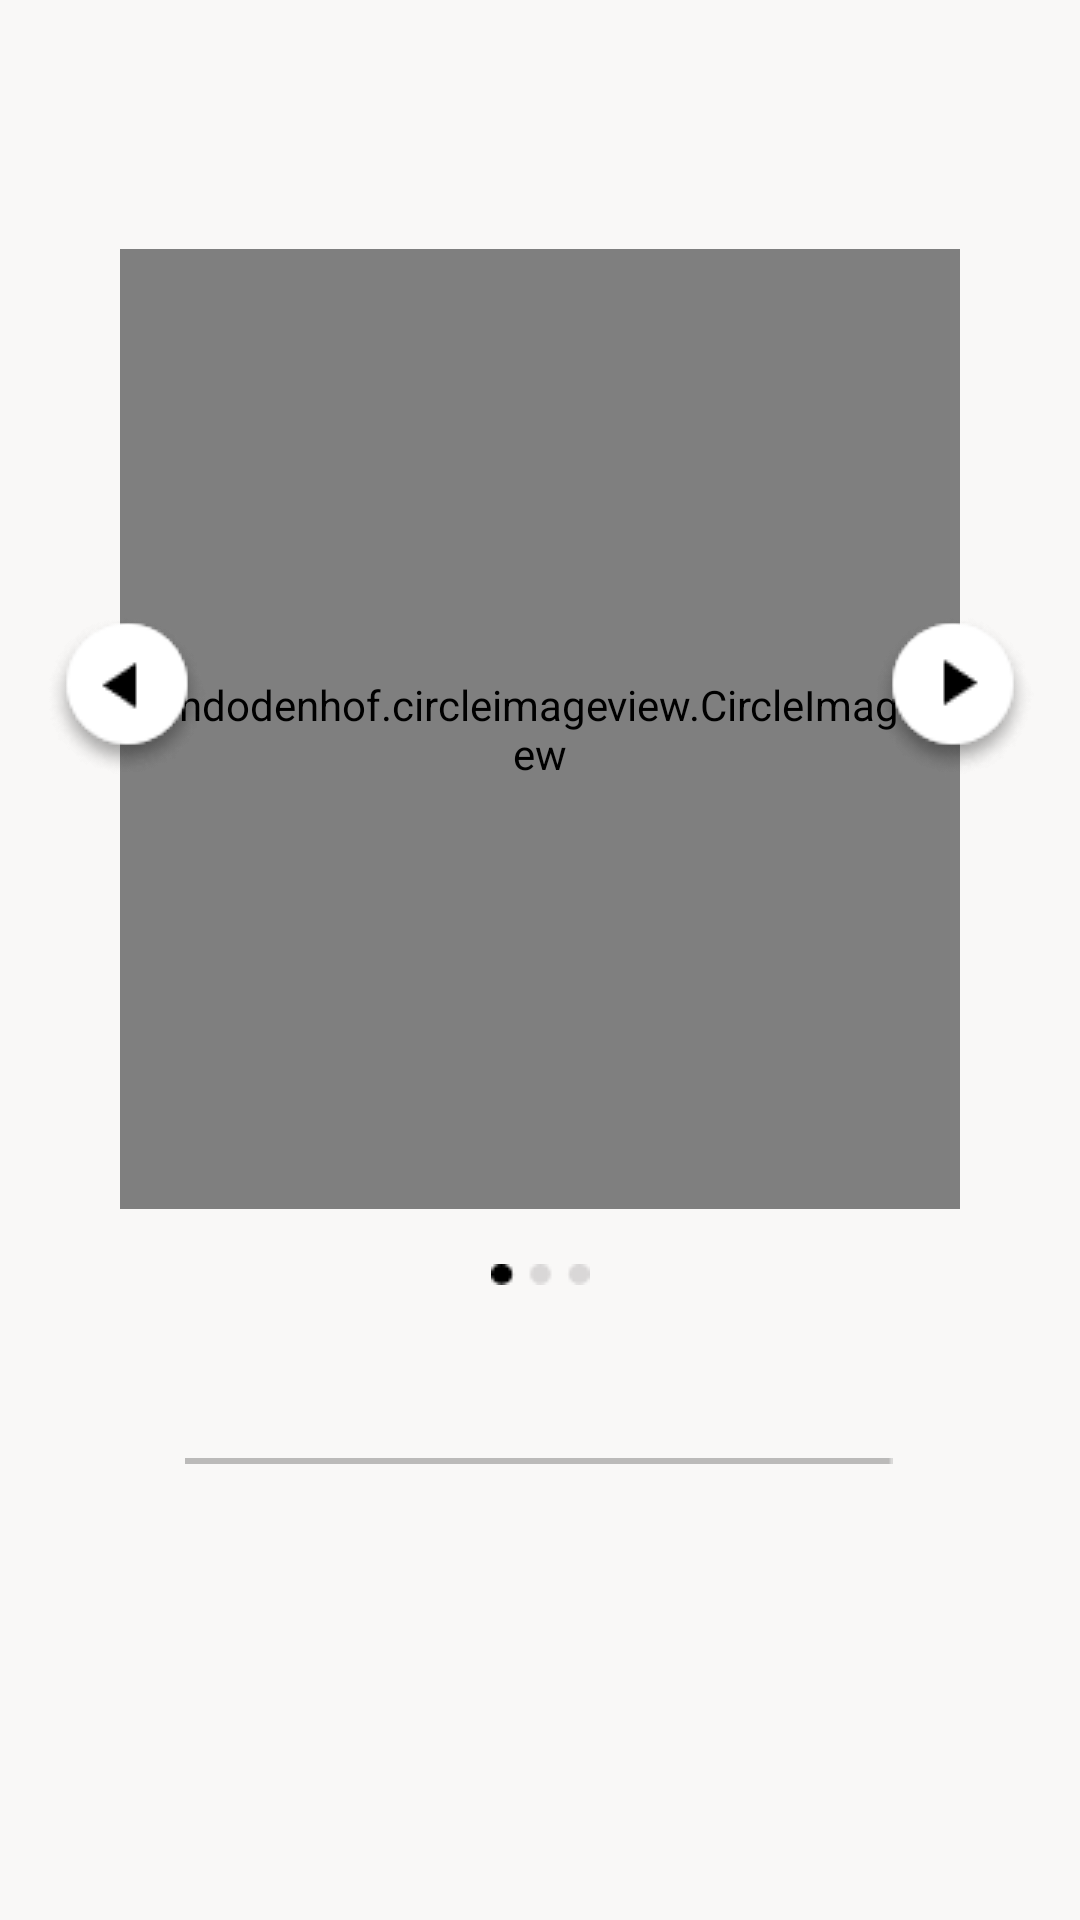

Screen size 1080px×1920px. Icon name, then its center in pixels as point (x, y):
recommend back: point (127, 696)
recommend next: point (953, 696)
